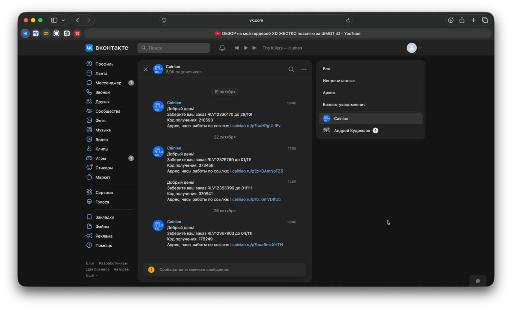vk: (18, 40, 494, 287)
